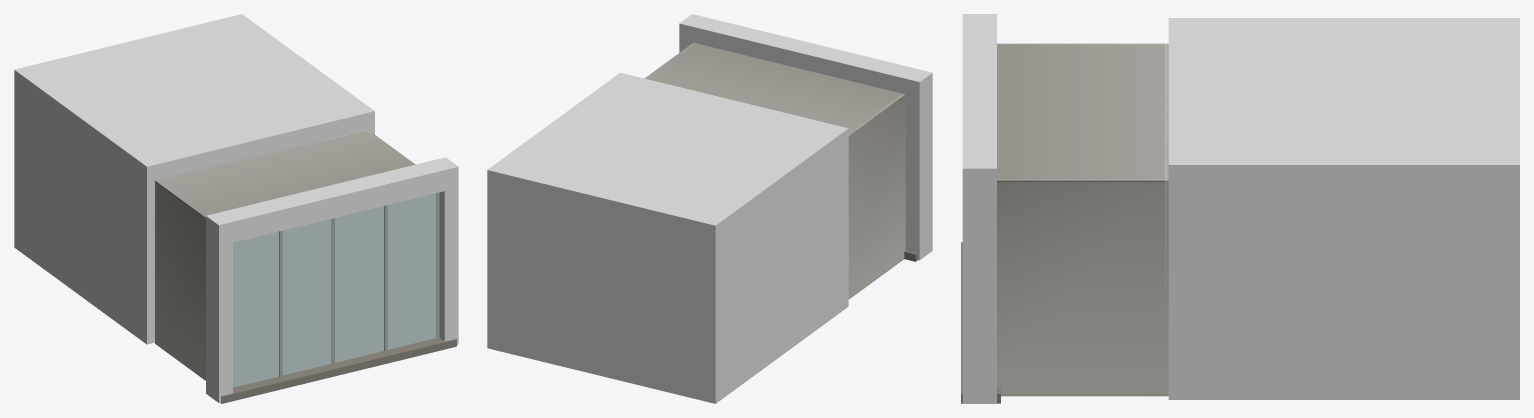
Rendered from tret_tiem_thuoc_48.glb.
The picture shows the model from 3 angles, left to right: view 1: azimuth 30°, elevation 25°; view 2: azimuth 150°, elevation 25°; view 3: azimuth 270°, elevation 25°; orthographic projection. The views are drawn at different scales.
Parts seen in each view (by area): view 1: tret_tiem_thuoc_48; view 2: tret_tiem_thuoc_48; view 3: tret_tiem_thuoc_48.
Part boxes in pixels (x1=…): tret_tiem_thuoc_48: x1=14, y1=14, x2=458, y2=403; tret_tiem_thuoc_48: x1=487, y1=14, x2=932, y2=403; tret_tiem_thuoc_48: x1=961, y1=14, x2=1519, y2=403.
Bounding box in the file's own units: 4.8 × 3.42 × 7.32.
